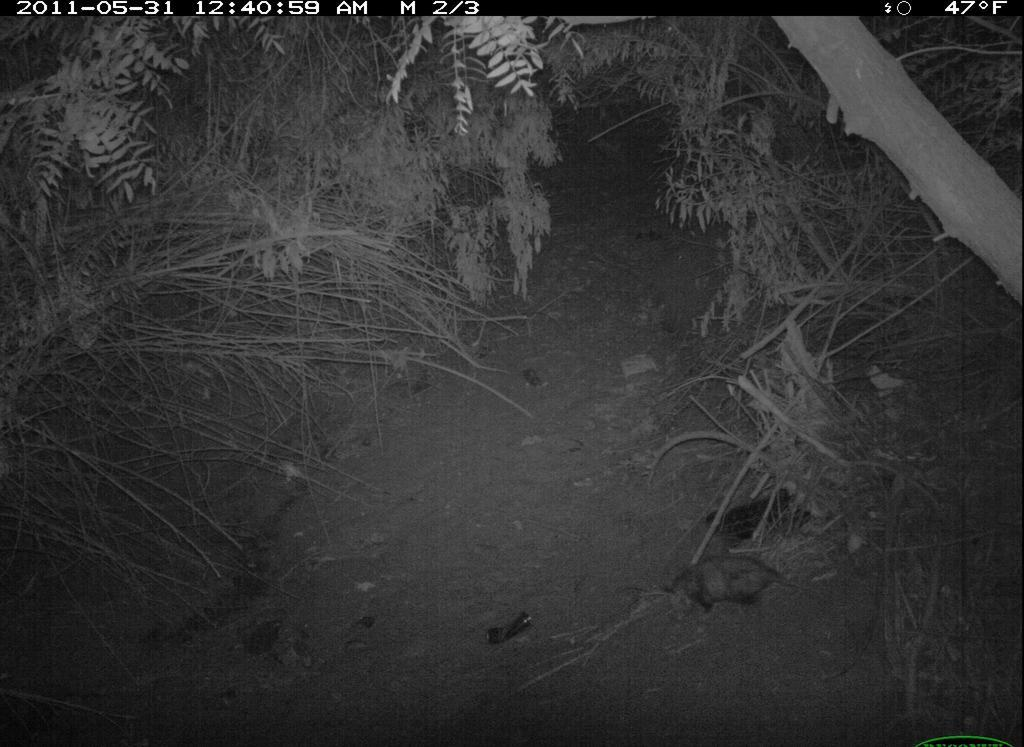opossum: (656, 550, 797, 630)
